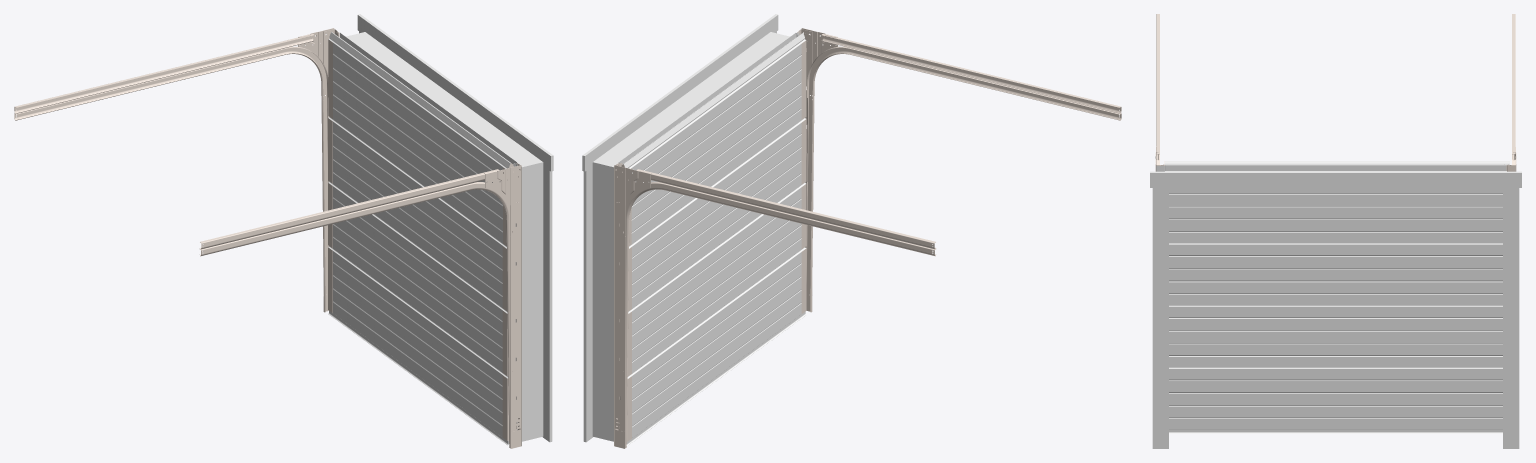
The model's file is dtakskjutport.glb.
3 views of the same model, side by side, from view 1: azimuth 30°, elevation 25°; view 2: azimuth 150°, elevation 25°; view 3: azimuth 270°, elevation 25° (orthographic). The views are drawn at different scales.
Visible parts, largest first — view 1: Portblad 600-1 2 - Part, Portblad-1 4 - Part, Portblad-1 3 - Part, Portblad-1 2 - Part, Påsalning yttersida_WEB-1 - Part, Påsalning yttersida_WEB-9 - Part, Fönsterfoder_WEB-1 - Part, Imported20 - Part, Fönsterfoder_WEB-7 - Part, Imported17 - Part, Imported14 - Part, Imported11 - Part (+6 smaller); view 2: Portblad 600-1 2 - Part, Portblad-1 4 - Part, Portblad-1 3 - Part, Portblad-1 2 - Part, Påsalning yttersida_WEB-7 - Part, Påsalning yttersida_WEB-9 - Part, Fönsterfoder_WEB-1 - Part, Imported9 - Part, Fönsterfoder_WEB-8 - Part, Imported2 - Part, Imported11 - Part, Imported14 - Part (+6 smaller); view 3: Portblad-1 2 - Part, Portblad-1 3 - Part, Portblad-1 4 - Part, Portblad 600-1 2 - Part, Fönsterfoder_WEB-1 - Part, Fönsterfoder_WEB-7 - Part, Fönsterfoder_WEB-8 - Part, Imported3 - Part, Nedre gummilist-1 - Part, Imported11 - Part, Imported14 - Part.
Boxes of the visible parts, bbox=[...] form: Portblad 600-1 2 - Part: bbox=[328, 32, 510, 243]; Portblad-1 4 - Part: bbox=[328, 246, 508, 436]; Portblad-1 3 - Part: bbox=[328, 181, 507, 372]; Portblad-1 2 - Part: bbox=[328, 117, 506, 307]; Påsalning yttersida_WEB-1 - Part: bbox=[522, 166, 543, 441]; Påsalning yttersida_WEB-9 - Part: bbox=[346, 32, 543, 170]; Fönsterfoder_WEB-1 - Part: bbox=[357, 14, 553, 171]; Imported20 - Part: bbox=[510, 163, 521, 448]; Fönsterfoder_WEB-7 - Part: bbox=[543, 166, 552, 442]; Imported17 - Part: bbox=[14, 46, 328, 120]; Imported14 - Part: bbox=[200, 169, 499, 249]; Imported11 - Part: bbox=[14, 34, 314, 113]; Portblad 600-1 2 - Part: bbox=[623, 33, 805, 243]; Portblad-1 4 - Part: bbox=[627, 247, 806, 437]; Portblad-1 3 - Part: bbox=[628, 182, 806, 373]; Portblad-1 2 - Part: bbox=[629, 118, 805, 308]; Påsalning yttersida_WEB-7 - Part: bbox=[592, 166, 613, 441]; Påsalning yttersida_WEB-9 - Part: bbox=[592, 32, 789, 170]; Fönsterfoder_WEB-1 - Part: bbox=[582, 14, 778, 171]; Imported9 - Part: bbox=[614, 163, 625, 448]; Fönsterfoder_WEB-8 - Part: bbox=[583, 166, 592, 442]; Imported2 - Part: bbox=[807, 46, 1121, 120]; Imported11 - Part: bbox=[636, 169, 935, 249]; Imported14 - Part: bbox=[821, 34, 1121, 113]; Portblad-1 2 - Part: bbox=[1169, 243, 1502, 305]; Portblad-1 3 - Part: bbox=[1169, 305, 1502, 367]; Portblad-1 4 - Part: bbox=[1169, 367, 1502, 429]; Portblad 600-1 2 - Part: bbox=[1165, 161, 1509, 243]; Fönsterfoder_WEB-1 - Part: bbox=[1150, 171, 1521, 187]; Fönsterfoder_WEB-7 - Part: bbox=[1152, 188, 1168, 448]; Fönsterfoder_WEB-8 - Part: bbox=[1503, 188, 1519, 448]; Imported3 - Part: bbox=[1165, 165, 1506, 170]; Nedre gummilist-1 - Part: bbox=[1169, 430, 1502, 433]; Imported11 - Part: bbox=[1512, 14, 1515, 160]; Imported14 - Part: bbox=[1156, 14, 1159, 160].
Bounding box in the file's own units: 2.83 × 2.22 × 2.72.
32 materials, 10 textured.
